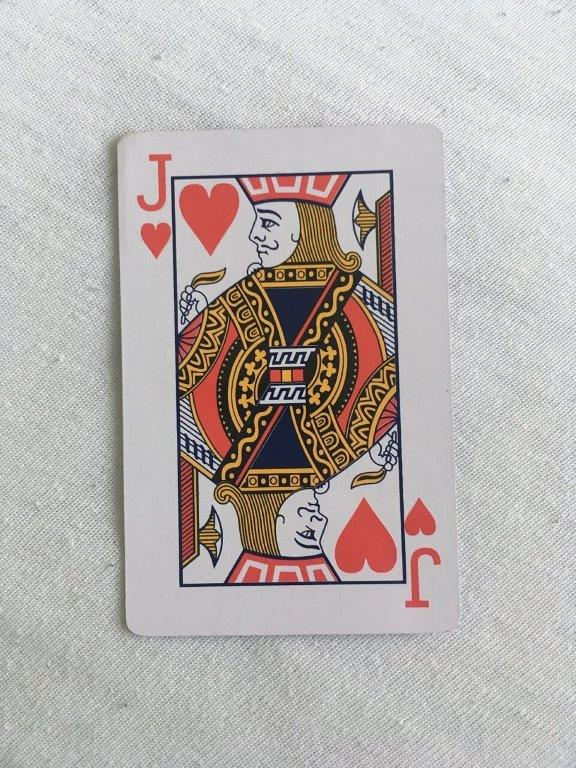JH: (111, 120, 465, 640)
